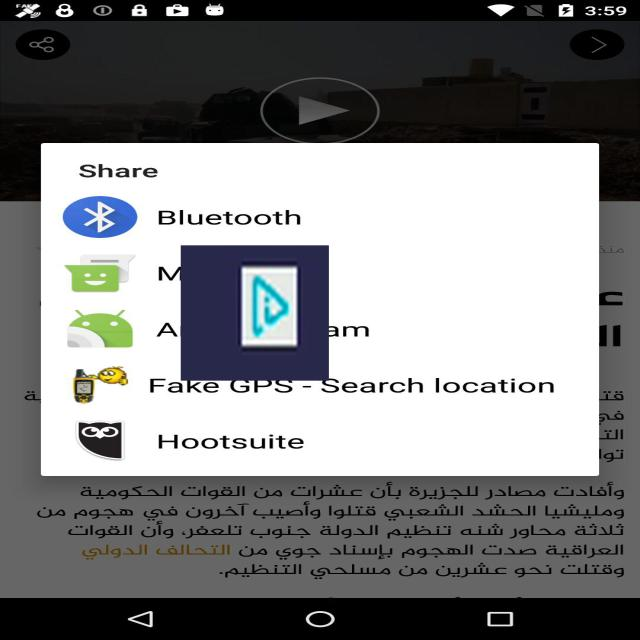sneaking: (181, 245, 329, 381)
